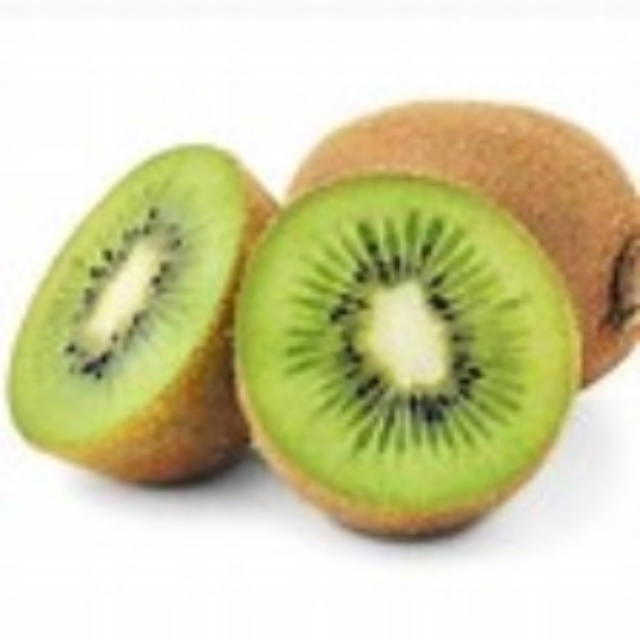kiwi: (237, 167, 565, 537), (299, 89, 639, 377), (15, 144, 277, 491)
